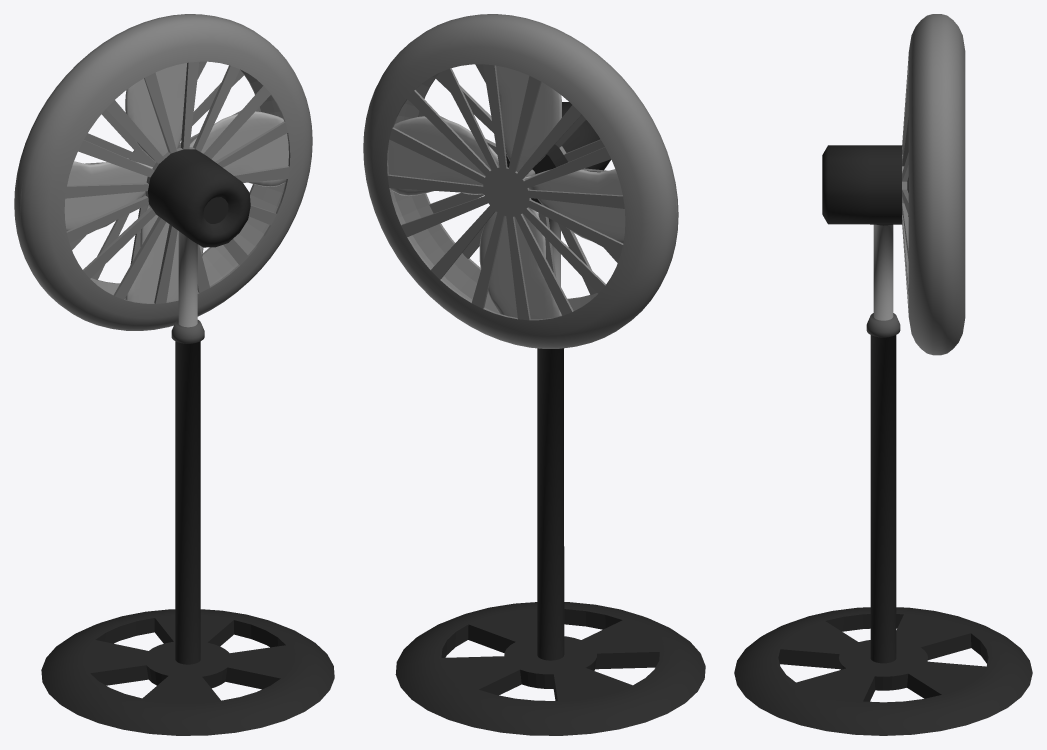
File: Ventilador(2).fbx
3 renders of one model, left to right at view 1: azimuth 30°, elevation 25°; view 2: azimuth 150°, elevation 25°; view 3: azimuth 270°, elevation 25°, orthographic. The views are drawn at different scales.
Parts seen in each view (by area): view 1: Ventilador; view 2: Ventilador; view 3: Ventilador.
Boxes of the visible parts, bbox=[...] form: Ventilador: bbox=[14, 14, 334, 735]; Ventilador: bbox=[363, 14, 705, 735]; Ventilador: bbox=[734, 14, 1032, 735].
Bounding box in the file's own units: 126 × 263 × 111.
1 material, 1 textured.
